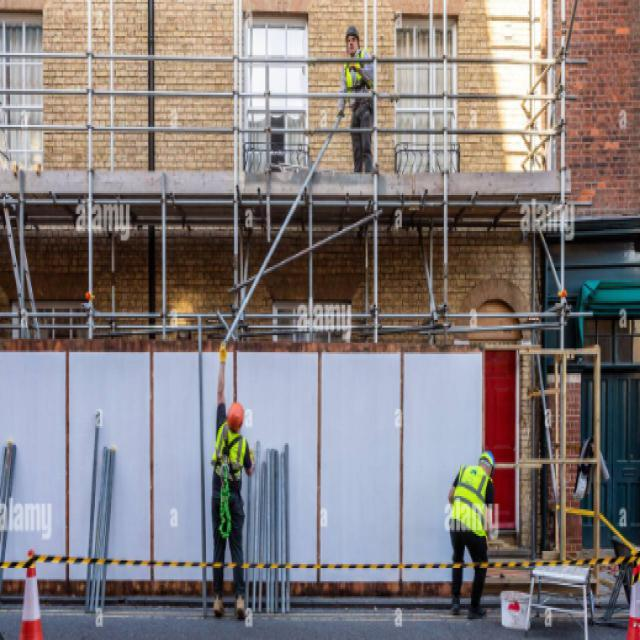boots: (210, 590, 250, 624), (453, 591, 487, 621)
helmet: (225, 398, 245, 434), (477, 449, 497, 481), (344, 25, 361, 58)
vest: (450, 463, 493, 539), (210, 420, 248, 490), (340, 47, 374, 104)
